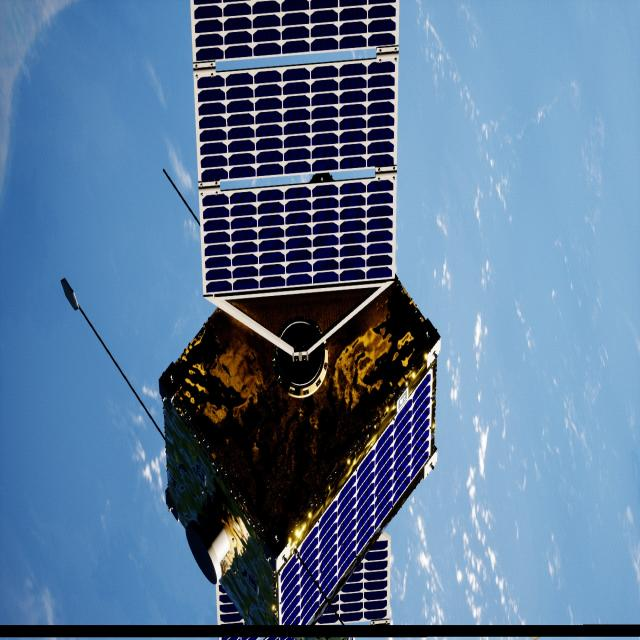satellite: (157, 0, 441, 628)
